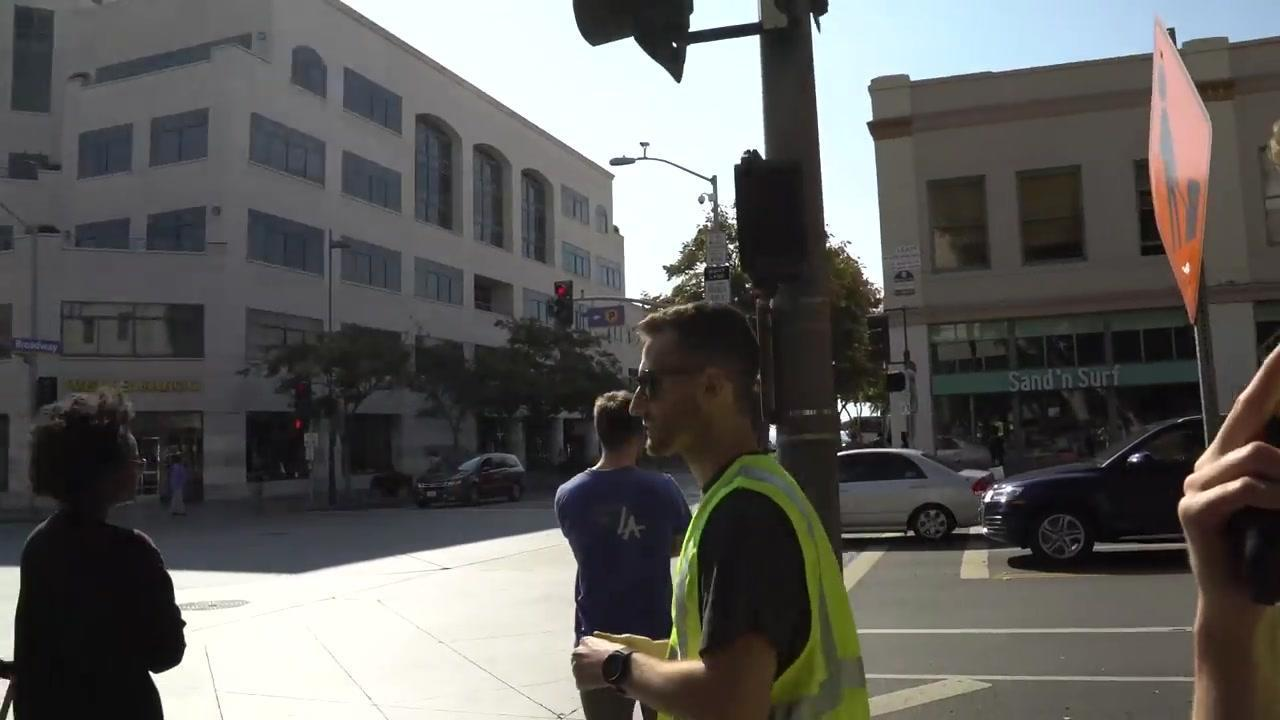vest: (655, 452, 872, 719)
